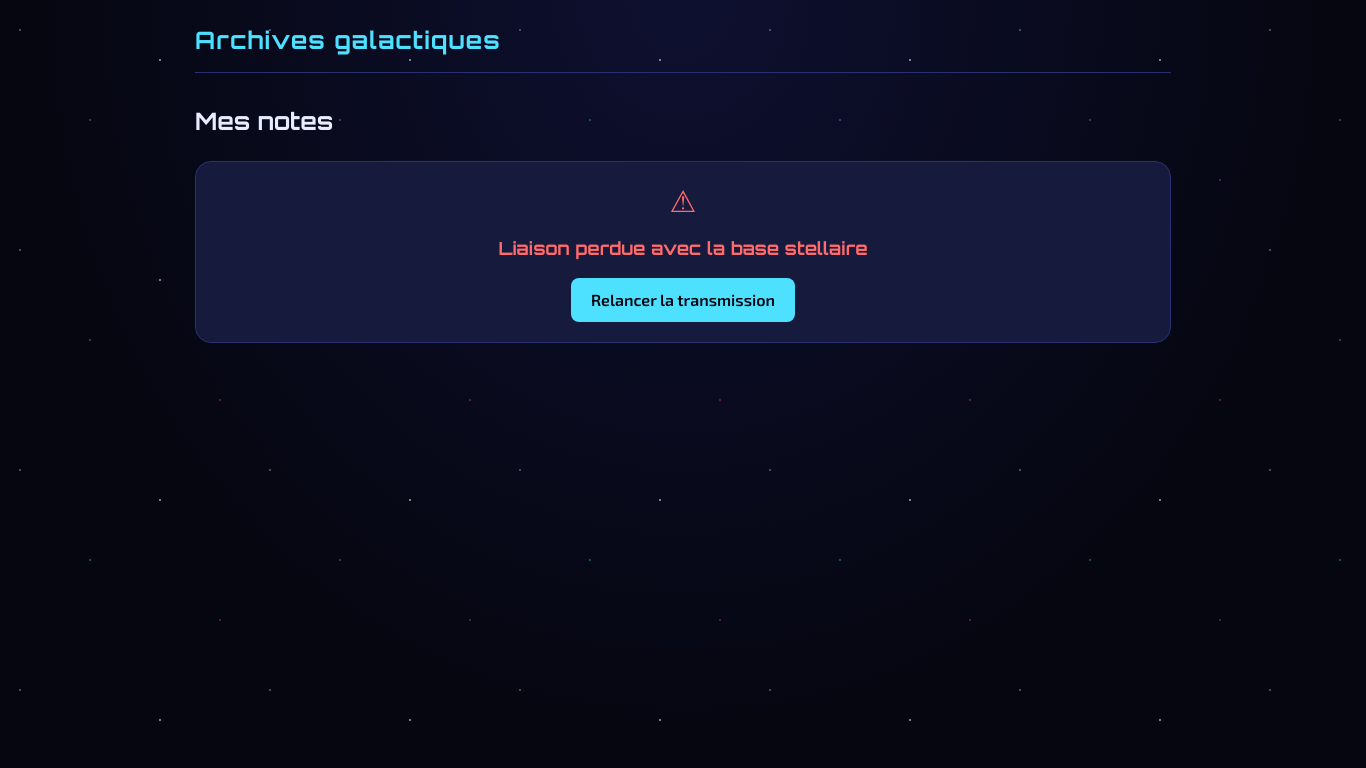
Test: US-05 états › TA-13 Réessayer relance la récupération et affiche la liste
Expected: the message "⚠ Liaison perdue avec la base stellaire Relancer la transmission" is shown, x1=195 y1=161 x2=1171 y2=343
Click the button "Relancer la transmission": point(683, 300) x1=571 y1=278 x2=795 y2=322
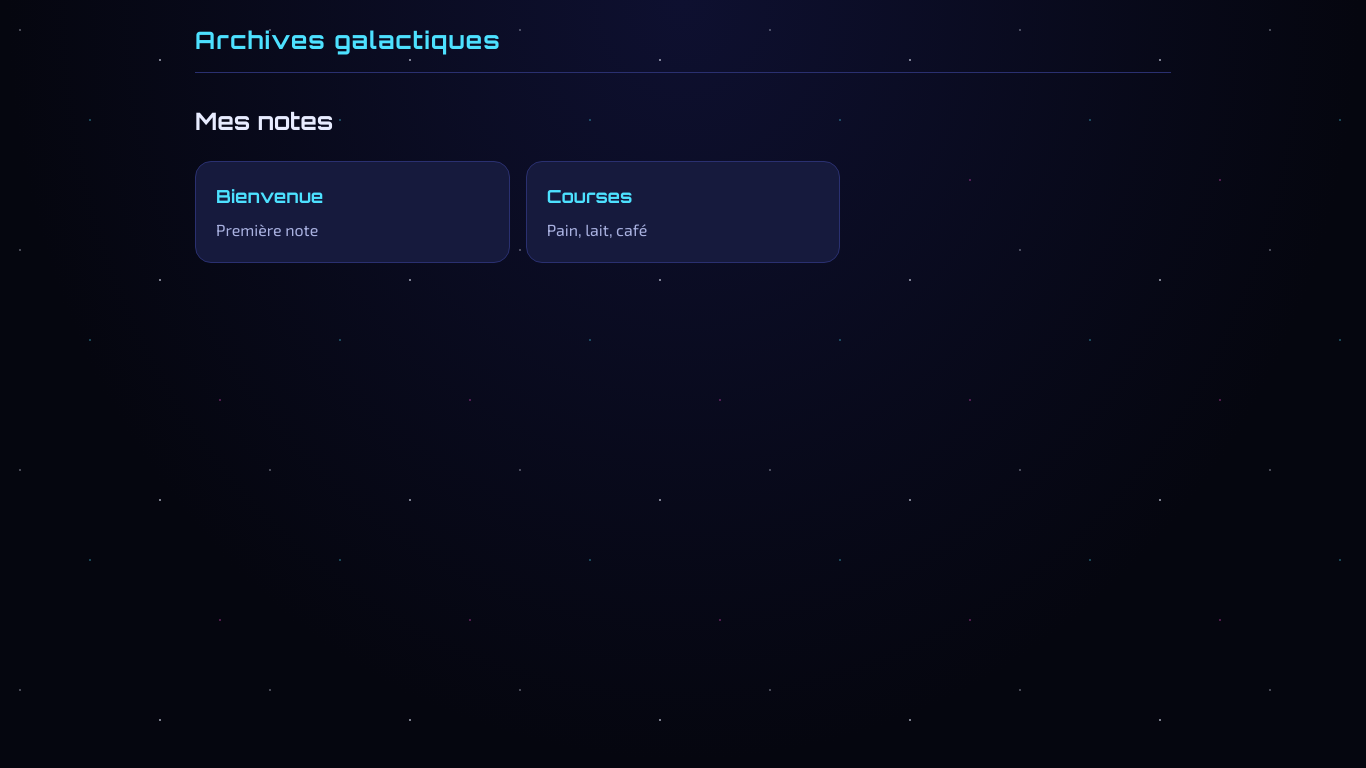
Expected: the heading "Bienvenue" is shown, x1=216 y1=185 x2=323 y2=207
Expected: the message "⚠ Liaison perdue avec la base stellaire Relancer la transmission" is gone
